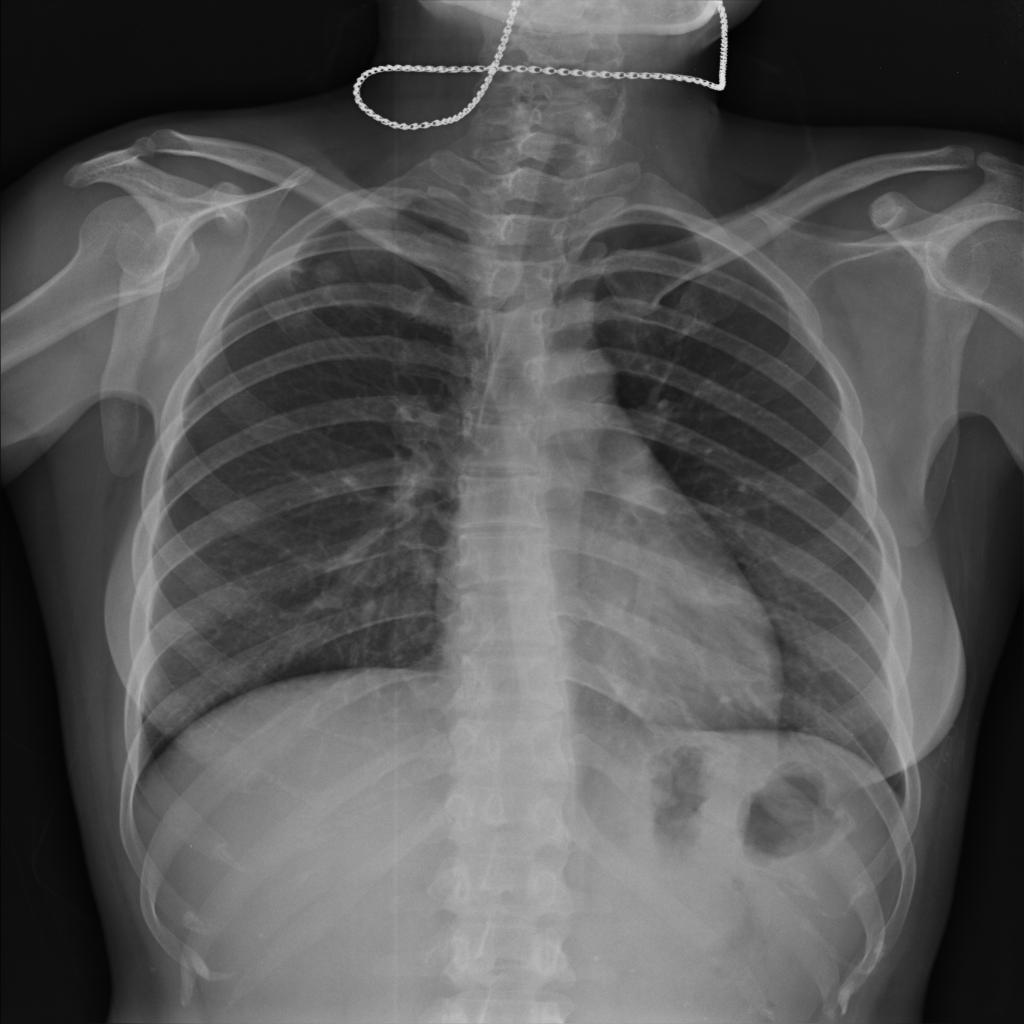Nodule: (313, 260, 345, 284)
